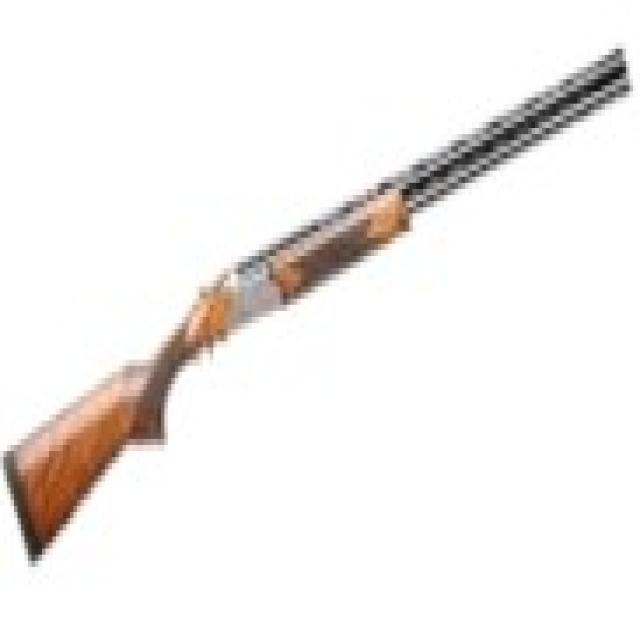rifle: (1, 33, 638, 582)
